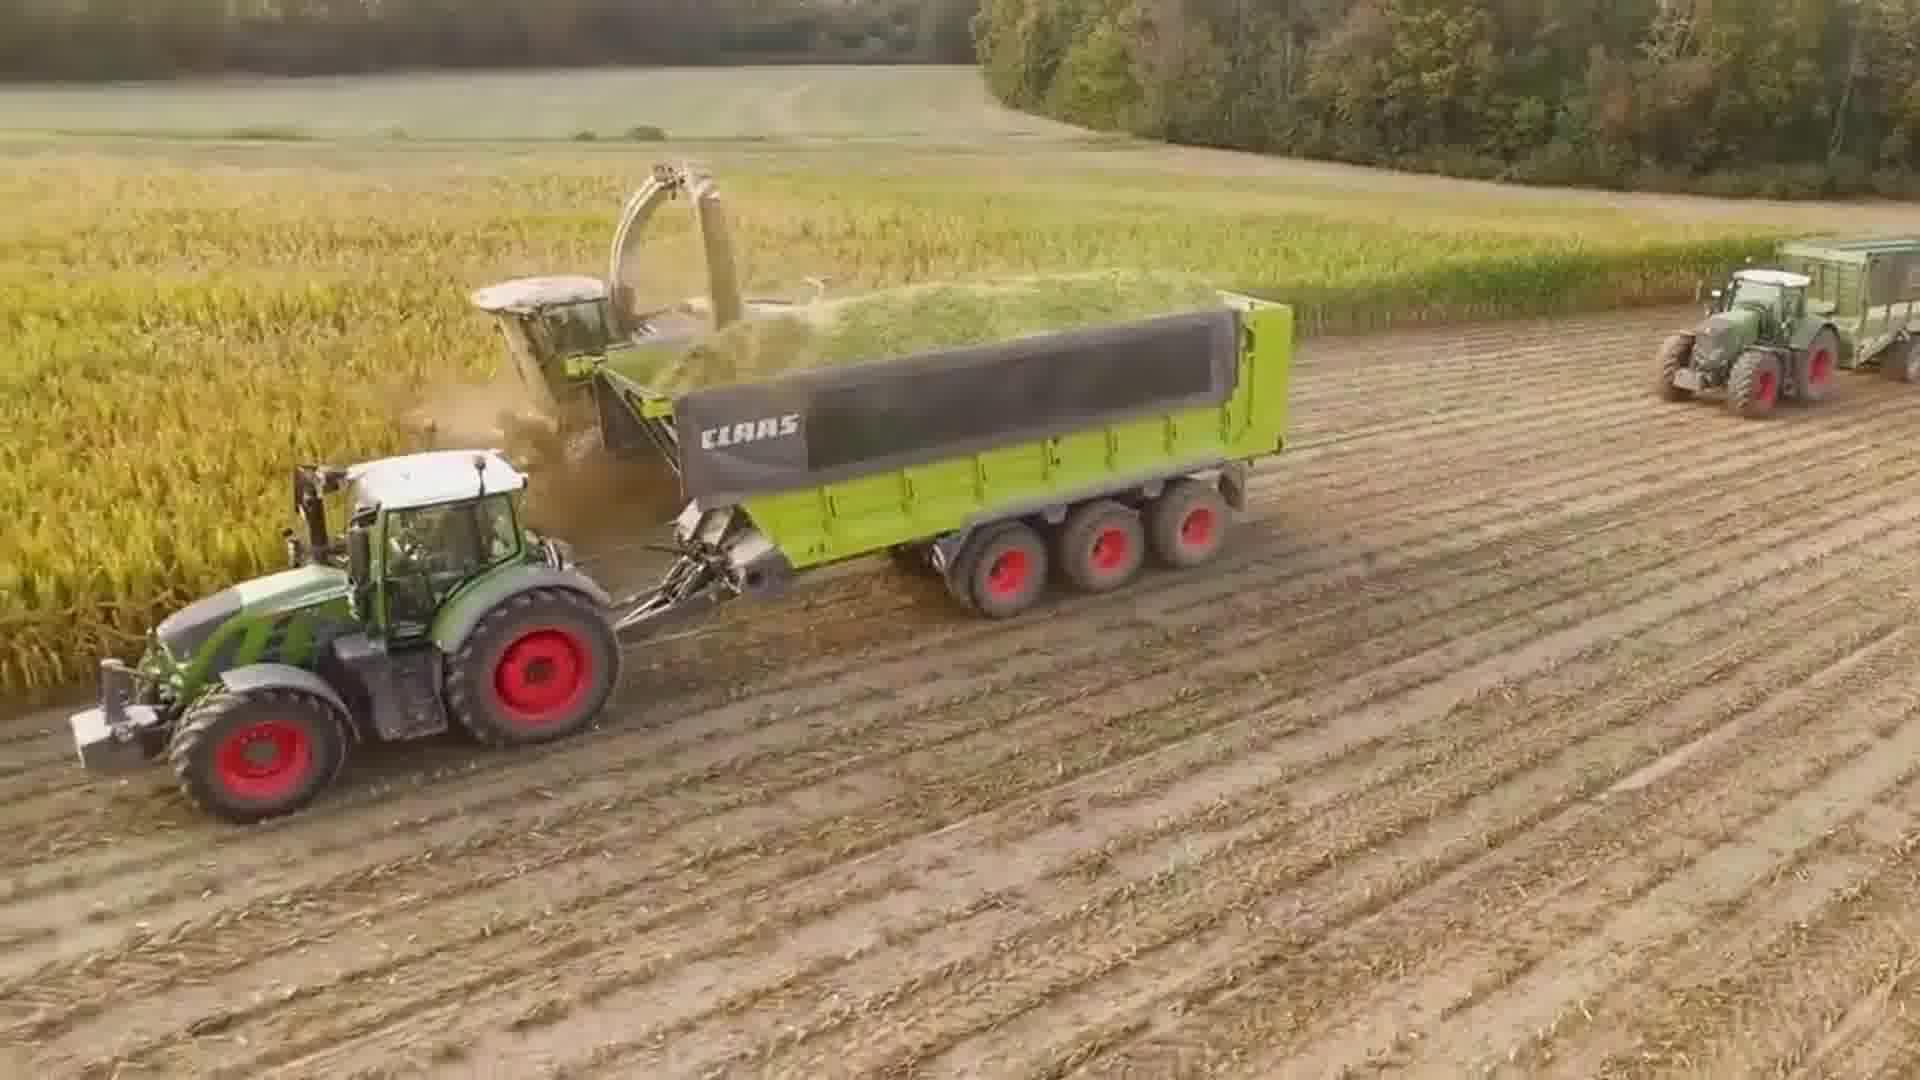combine harvester: (466, 153, 780, 406)
tractor: (63, 443, 623, 834), (1650, 261, 1844, 423)
trailer: (563, 257, 1300, 637), (1770, 227, 1920, 396)
